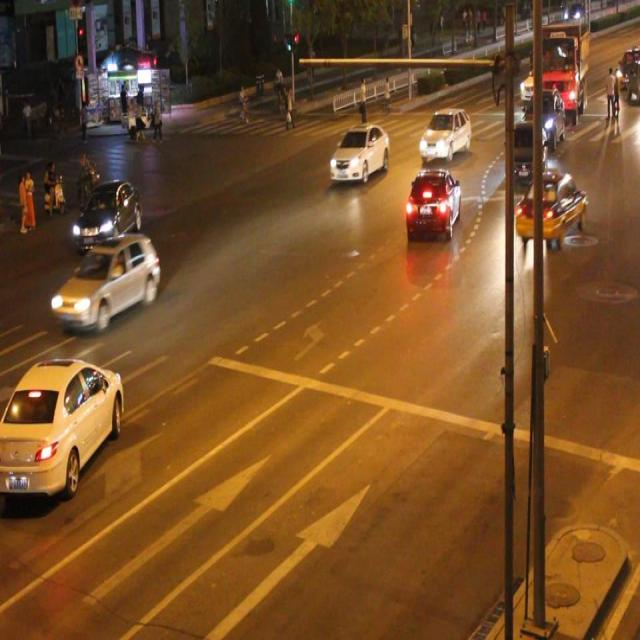car: (0, 356, 124, 494), (49, 232, 160, 327), (515, 167, 584, 245), (74, 184, 142, 248), (404, 167, 462, 240), (329, 122, 387, 186), (418, 107, 470, 162), (506, 120, 546, 188)
